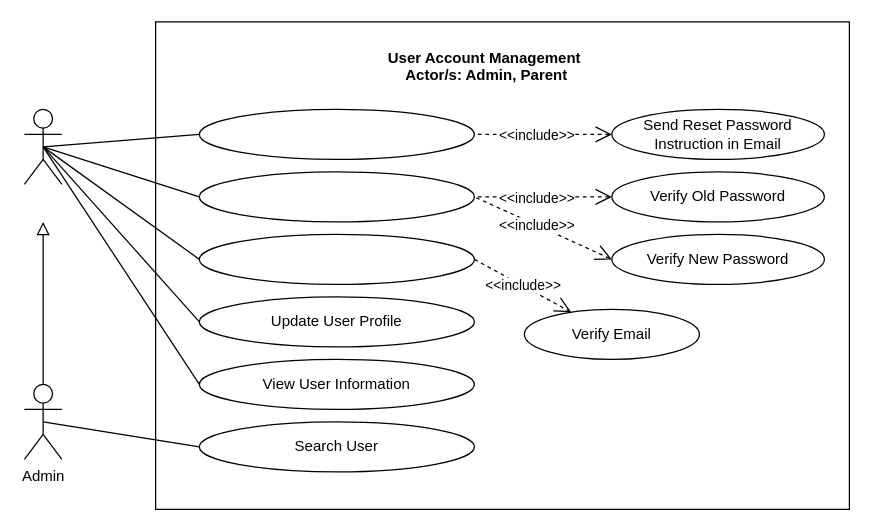
Image size: 871x531. Some labels were removed from this diagram. Here are the shapes that lost their labels. From the top down, the centre of each, then its label:
At [42,146]: "Parent".
At [336,133]: "Reset Password".
At [336,196]: "Change Password".
At [336,258]: "Create account".
